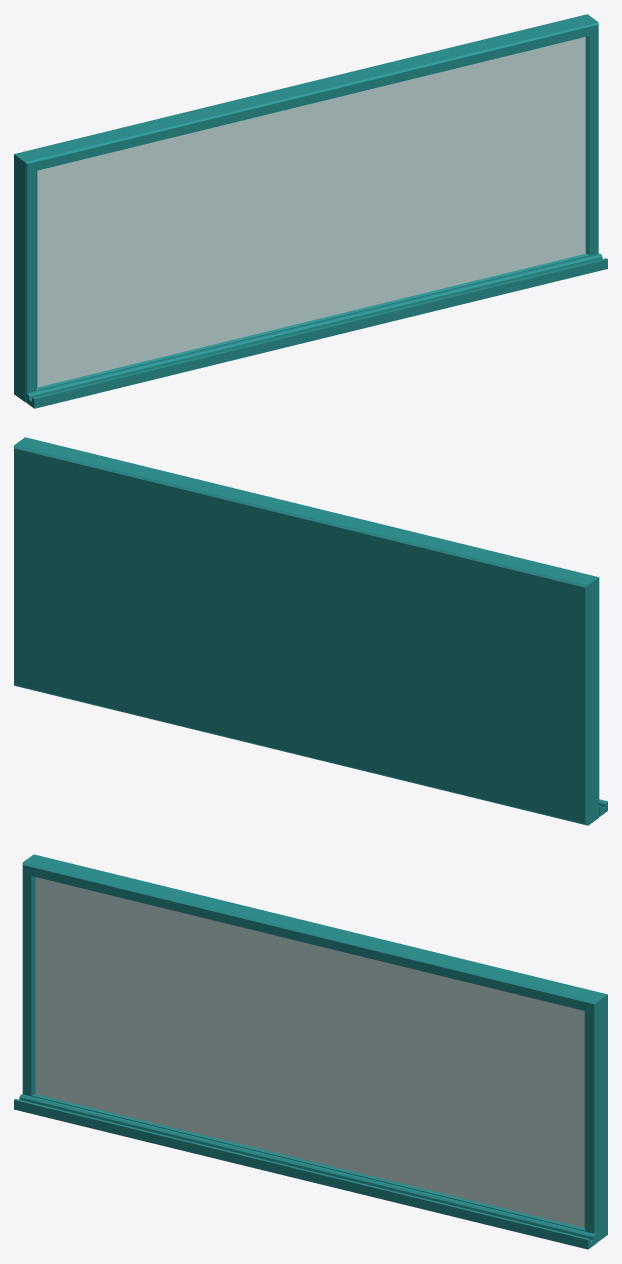
The model's file is SM_Chalkboard.FBX.
The picture shows the model from 3 angles, top to bottom: view 1: azimuth 30°, elevation 25°; view 2: azimuth 150°, elevation 25°; view 3: azimuth 330°, elevation 25°; orthographic projection.
Parts seen in each view (by area): view 1: SM_Chalkboard; view 2: SM_Chalkboard; view 3: SM_Chalkboard.
Part boxes in pixels (x1,y1,x2,y2): SM_Chalkboard: (14,14,607,408); SM_Chalkboard: (14,437,607,825); SM_Chalkboard: (14,854,607,1249).
Size of what is drawn, in the model's own units: 2502 by 1000 by 160.
